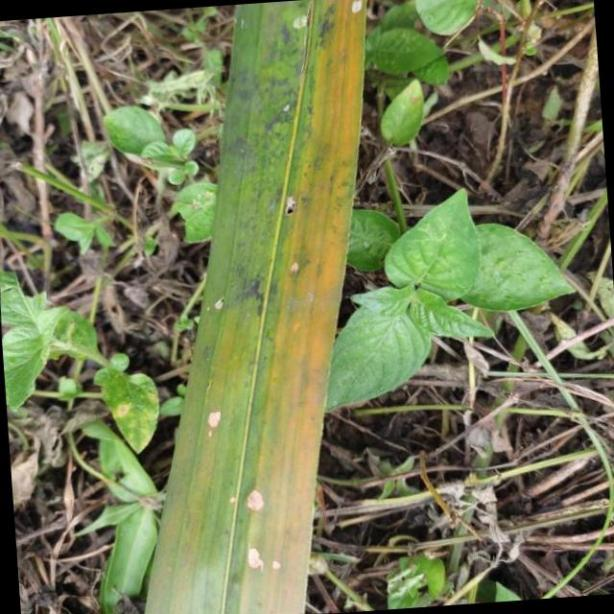Megnesium: (149, 0, 366, 614)
